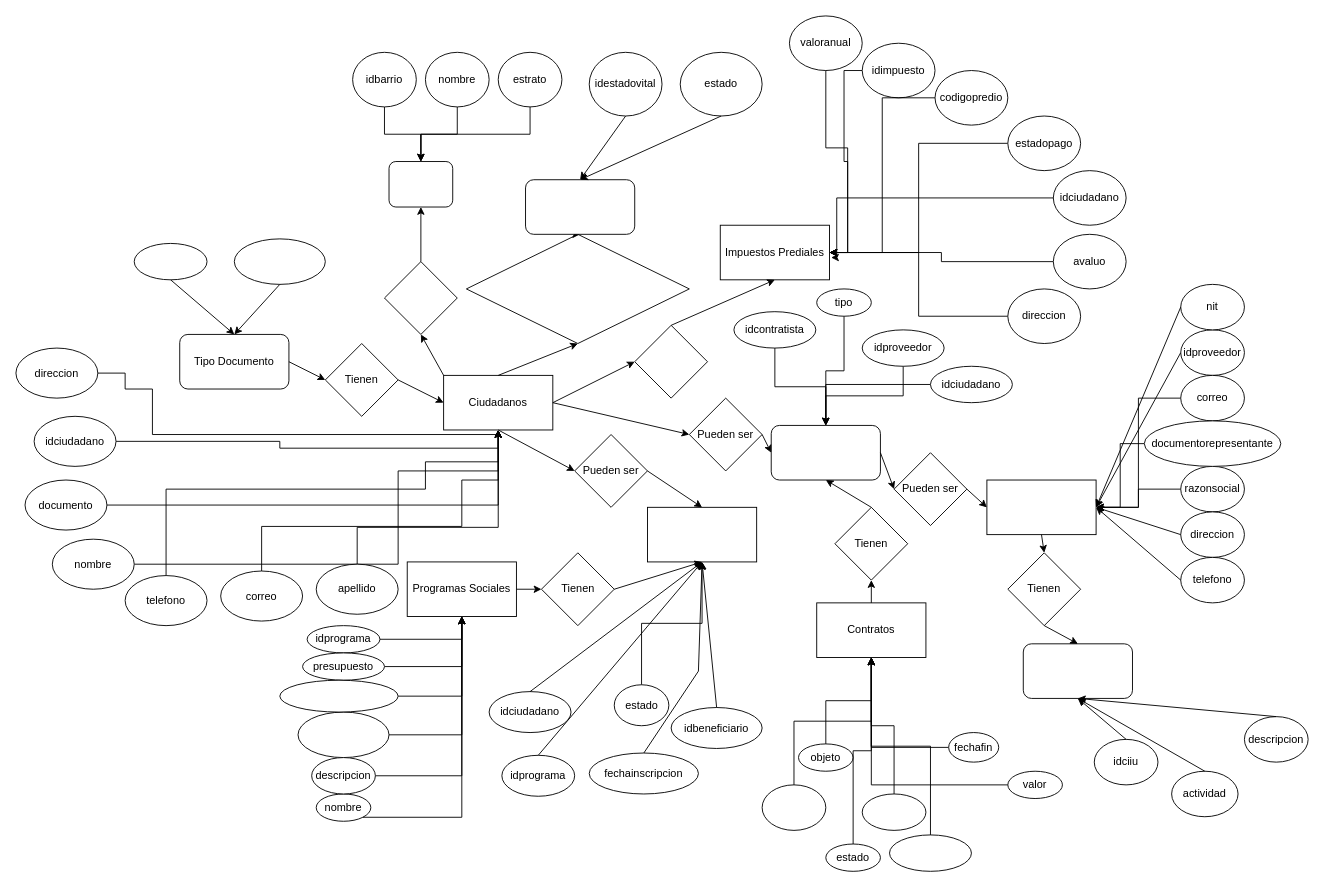
Some shapes in this 1324 by 887 pixel diagram are drawn without their labels. Each missing label, with the centre of its shape:
"Barrios" goes at point (420, 184).
"Beneficiarios" goes at point (702, 534).
"codigcontrato" goes at point (930, 852).
"Codigo CIIU" goes at point (1077, 670).
"codigoprograma" goes at point (343, 734).
"Condiciones Persona" goes at point (580, 206).
"Contratistas" goes at point (825, 452).
"fechainicio" goes at point (893, 811).
"id_tipo_doc" goes at point (170, 261).
"idcontrato" goes at point (793, 807).
"poblacionbeneficiada" goes at point (338, 695).
"Proveedores" goes at point (1041, 507).
"Pueden estar VIVOS,MUERTOS,DESAPARECIDOS" goes at point (577, 288).
"Pueden tener" goes at point (671, 361).
"tipoDocumento" goes at point (279, 261).
"Viven en" goes at point (420, 297).
